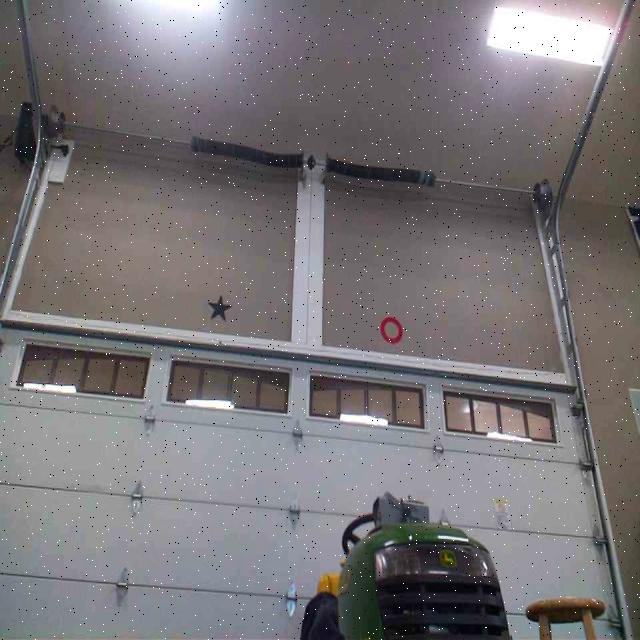ring_red: (379, 317, 402, 343)
star_black: (208, 293, 232, 319)
